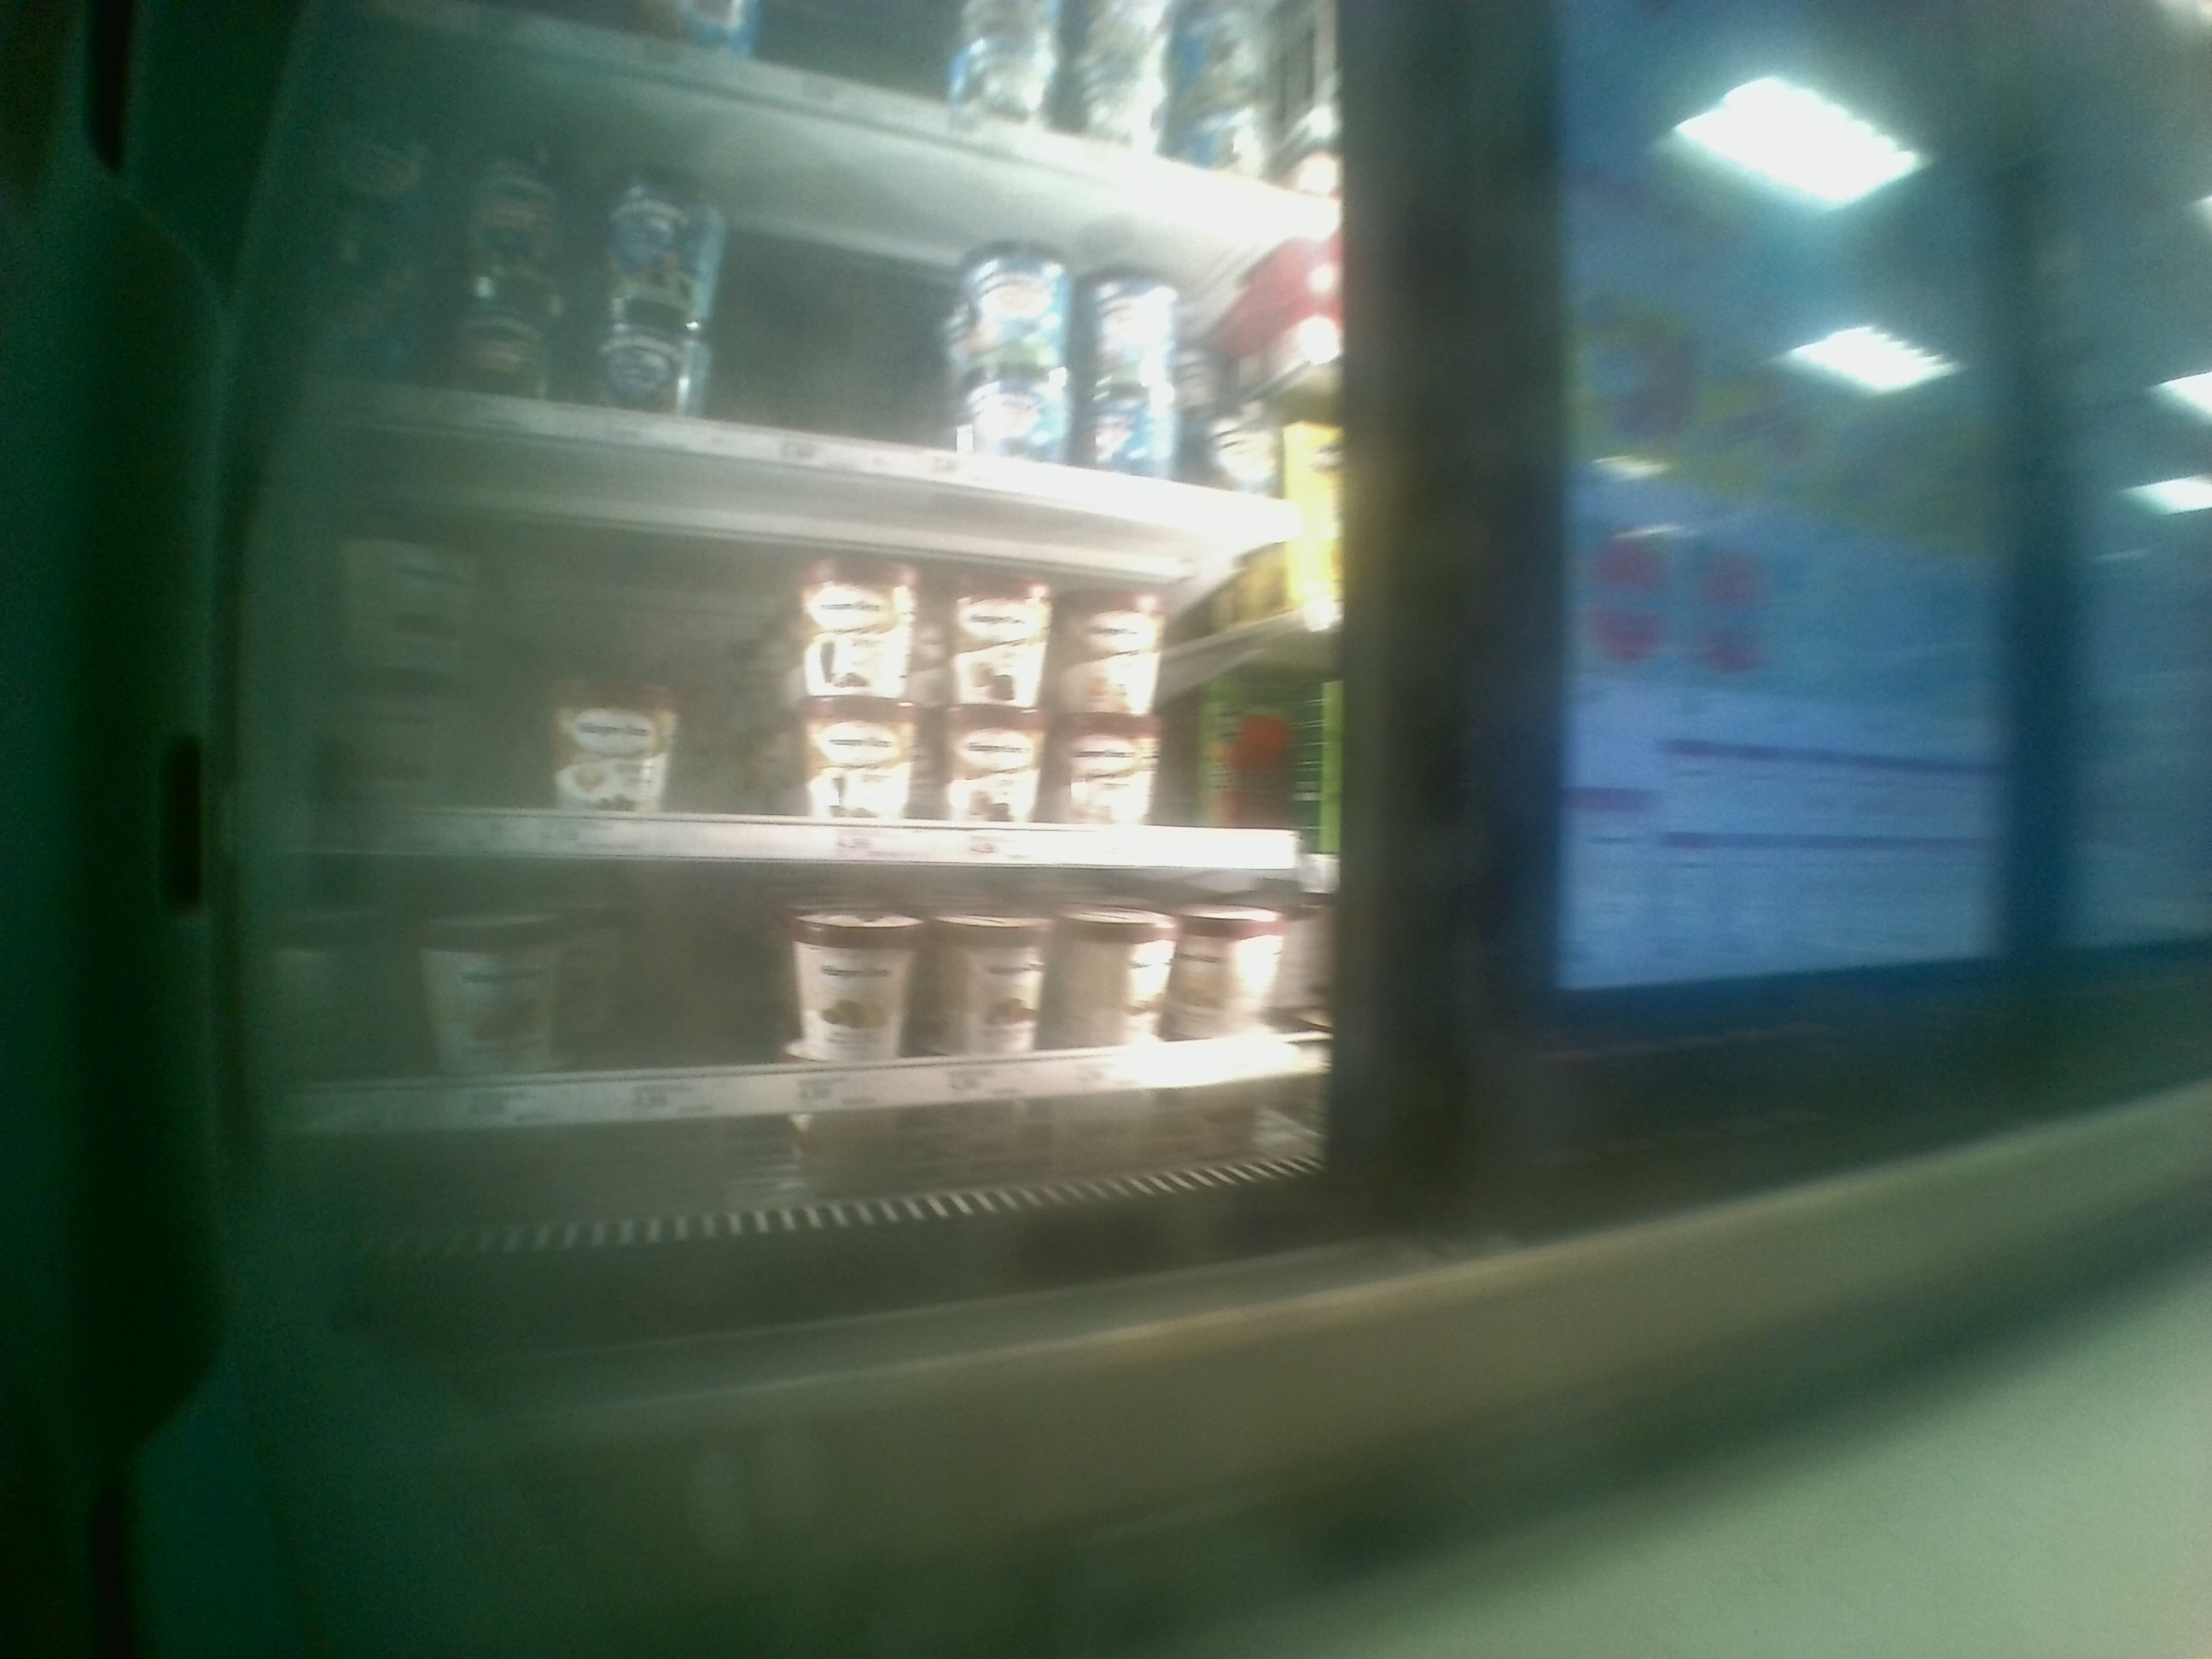shelf: (296, 413, 1339, 864), (291, 864, 1339, 1208)
